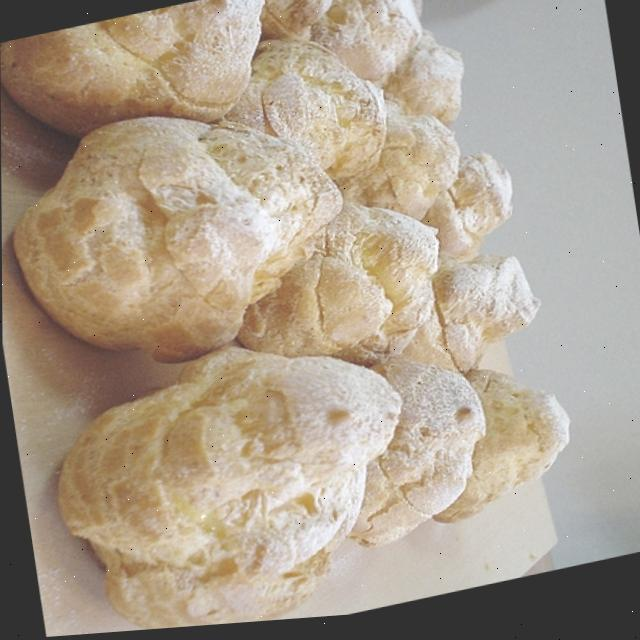炸货点心: (0, 0, 610, 640)
蛋糕甜品: (0, 0, 610, 640)
